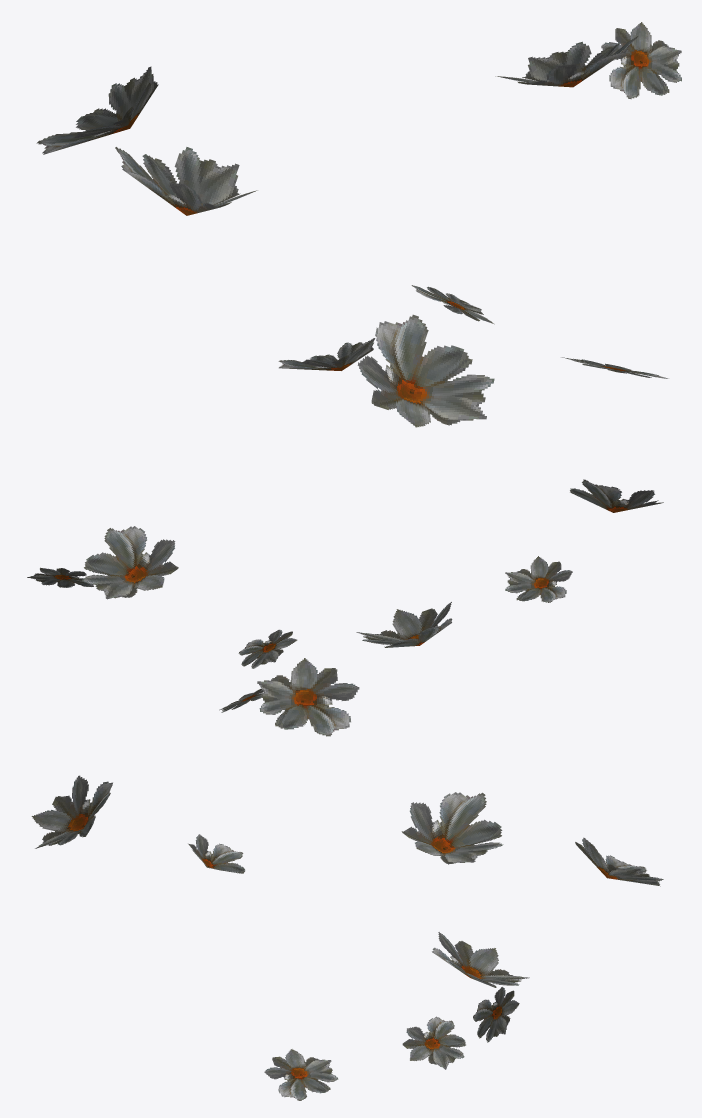
3 renders of one model, top to bottom at view 1: azimuth 30°, elevation 25°; view 2: azimuth 150°, elevation 25°; view 3: azimuth 270°, elevation 25°, orthographic. The views are drawn at different scales.
Visible parts, largest first — view 1: grass_daisy-0-01 - Default; view 2: grass_daisy-0-01 - Default; view 3: grass_daisy-0-01 - Default.
Boxes of the visible parts, left/top/right/bottom form: grass_daisy-0-01 - Default: left=36, top=22, right=681, bottom=427; grass_daisy-0-01 - Default: left=27, top=479, right=663, bottom=736; grass_daisy-0-01 - Default: left=31, top=775, right=663, bottom=1100.
Bounding box in the file's own units: 1.52 × 0.5969 × 1.88.
Materials: 1 (1 with a texture image).
